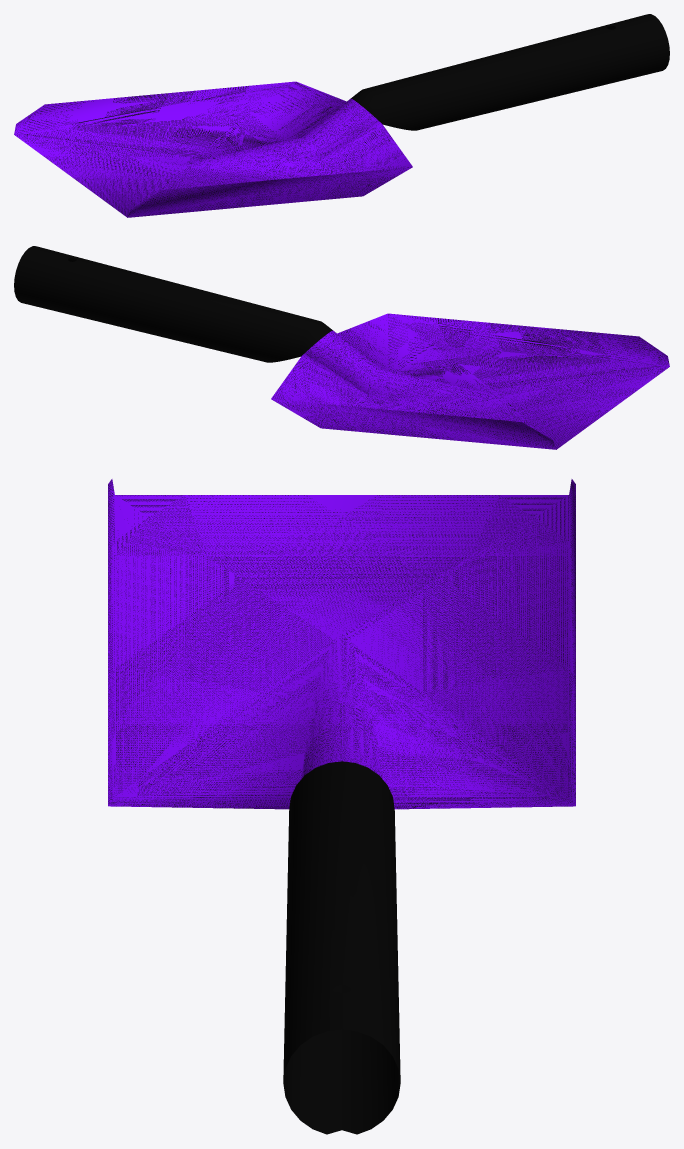
Rendered from shovel_02_origin_gt_6.dae.
3 renders of one model, top to bottom at view 1: azimuth 30°, elevation 25°; view 2: azimuth 150°, elevation 25°; view 3: azimuth 270°, elevation 25°, orthographic. The views are drawn at different scales.
Visible parts, largest first — view 1: Coal_Shovel (×2); view 2: Coal_Shovel (×2); view 3: Coal_Shovel (×2).
Part boxes in pixels (x1,y1,x2,y2): Coal_Shovel (×2): (14,14,669,217); Coal_Shovel (×2): (14,246,669,449); Coal_Shovel (×2): (108,479,575,1134).
Size of the model in its own units: 14.5 by 5.02 by 1.35.
